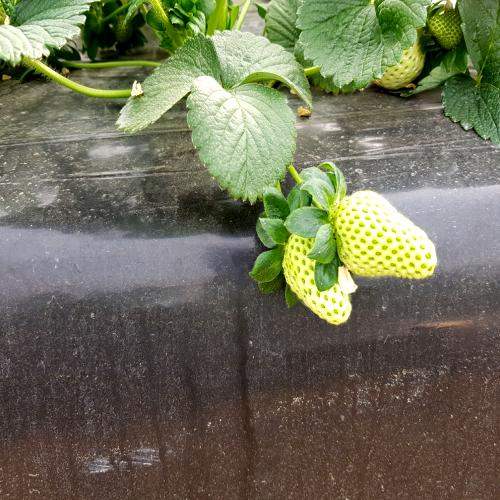unripe: (332, 174, 442, 296), (276, 219, 352, 338)
